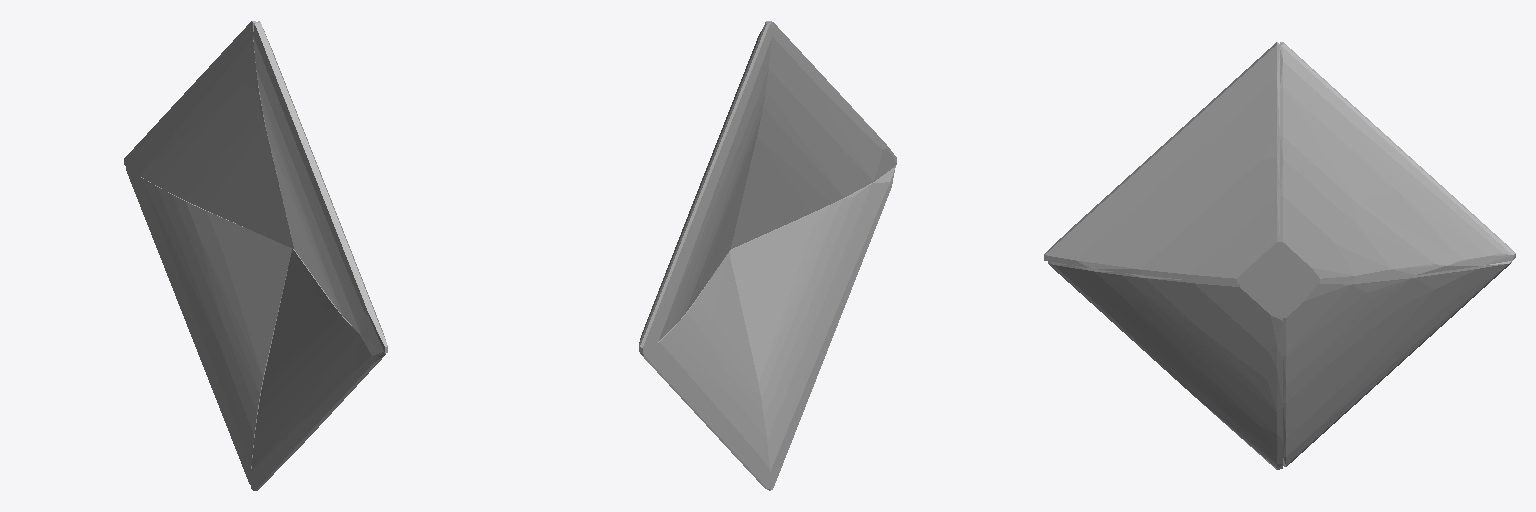
URDF robot description (root):
<robot name="root">
  <link name="link_sqbowl_convex_piece_0">
    <inertial>
      <origin rpy="0 0 0" xyz="0 0 0"/>
      <mass value="3.68E-07"/>
      <inertia ixx="5.33E-11" ixy="2.46E-12" ixz="2.63E-12" iyy="2.88E-11" iyz="1.34E-11" izz="2.60E-11"/>
    </inertial>
    <visual>
      <origin rpy="0 0 0" xyz="0 0 0"/>
      <geometry>
        <mesh filename="sqbowl_convex_piece_0.obj" scale="1.0000E+00"/>
      </geometry>
      <material name="">
        <color rgba="7.50E-01 7.50E-01 7.50E-01 1"/>
      </material>
    </visual>
    <collision>
      <origin rpy="0 0 0" xyz="0 0 0"/>
      <geometry>
        <mesh filename="sqbowl_convex_piece_0.obj" scale="1.0000E+00"/>
      </geometry>
    </collision>
  </link>
  <link name="link_sqbowl_convex_piece_1">
    <inertial>
      <origin rpy="0 0 0" xyz="0 0 0"/>
      <mass value="3.43E-07"/>
      <inertia ixx="4.95E-11" ixy="-2.52E-12" ixz="2.50E-12" iyy="2.56E-11" iyz="-1.32E-11" izz="2.54E-11"/>
    </inertial>
    <visual>
      <origin rpy="0 0 0" xyz="0 0 0"/>
      <geometry>
        <mesh filename="sqbowl_convex_piece_1.obj" scale="1.0000E+00"/>
      </geometry>
      <material name="">
        <color rgba="7.50E-01 7.50E-01 7.50E-01 1"/>
      </material>
    </visual>
    <collision>
      <origin rpy="0 0 0" xyz="0 0 0"/>
      <geometry>
        <mesh filename="sqbowl_convex_piece_1.obj" scale="1.0000E+00"/>
      </geometry>
    </collision>
  </link>
  <joint name="link_sqbowl_convex_piece_1_joint" type="fixed">
    <origin rpy="0 0 0" xyz="0 0 0"/>
    <parent link="link_sqbowl_convex_piece_0"/>
    <child link="link_sqbowl_convex_piece_1"/>
  </joint>
  <link name="link_sqbowl_convex_piece_2">
    <inertial>
      <origin rpy="0 0 0" xyz="0 0 0"/>
      <mass value="3.73E-07"/>
      <inertia ixx="5.35E-11" ixy="2.50E-12" ixz="-2.48E-12" iyy="2.69E-11" iyz="-1.31E-11" izz="2.81E-11"/>
    </inertial>
    <visual>
      <origin rpy="0 0 0" xyz="0 0 0"/>
      <geometry>
        <mesh filename="sqbowl_convex_piece_2.obj" scale="1.0000E+00"/>
      </geometry>
      <material name="">
        <color rgba="7.50E-01 7.50E-01 7.50E-01 1"/>
      </material>
    </visual>
    <collision>
      <origin rpy="0 0 0" xyz="0 0 0"/>
      <geometry>
        <mesh filename="sqbowl_convex_piece_2.obj" scale="1.0000E+00"/>
      </geometry>
    </collision>
  </link>
  <joint name="link_sqbowl_convex_piece_2_joint" type="fixed">
    <origin rpy="0 0 0" xyz="0 0 0"/>
    <parent link="link_sqbowl_convex_piece_1"/>
    <child link="link_sqbowl_convex_piece_2"/>
  </joint>
  <link name="link_sqbowl_convex_piece_3">
    <inertial>
      <origin rpy="0 0 0" xyz="0 0 0"/>
      <mass value="3.79E-07"/>
      <inertia ixx="5.43E-11" ixy="-2.69E-12" ixz="-2.56E-12" iyy="2.71E-11" iyz="1.33E-11" izz="2.88E-11"/>
    </inertial>
    <visual>
      <origin rpy="0 0 0" xyz="0 0 0"/>
      <geometry>
        <mesh filename="sqbowl_convex_piece_3.obj" scale="1.0000E+00"/>
      </geometry>
      <material name="">
        <color rgba="7.50E-01 7.50E-01 7.50E-01 1"/>
      </material>
    </visual>
    <collision>
      <origin rpy="0 0 0" xyz="0 0 0"/>
      <geometry>
        <mesh filename="sqbowl_convex_piece_3.obj" scale="1.0000E+00"/>
      </geometry>
    </collision>
  </link>
  <joint name="link_sqbowl_convex_piece_3_joint" type="fixed">
    <origin rpy="0 0 0" xyz="0 0 0"/>
    <parent link="link_sqbowl_convex_piece_2"/>
    <child link="link_sqbowl_convex_piece_3"/>
  </joint>
</robot>

--- Render facts (derived) ---
The picture shows the robot from 3 angles, left to right: view 1: azimuth 30°, elevation 25°; view 2: azimuth 150°, elevation 25°; view 3: azimuth 270°, elevation 25°; orthographic projection.
Model root with 4 links and 3 joints (3 fixed), rooted at link_sqbowl_convex_piece_0, posed every joint at zero.
Visible links, largest first — view 1: link_sqbowl_convex_piece_1, link_sqbowl_convex_piece_3, link_sqbowl_convex_piece_0, link_sqbowl_convex_piece_2; view 2: link_sqbowl_convex_piece_0, link_sqbowl_convex_piece_2, link_sqbowl_convex_piece_1, link_sqbowl_convex_piece_3; view 3: link_sqbowl_convex_piece_2, link_sqbowl_convex_piece_3, link_sqbowl_convex_piece_0, link_sqbowl_convex_piece_1.
Boxes of the visible links, x1,y1,x2,y2 form: link_sqbowl_convex_piece_1: [126, 167, 291, 484]; link_sqbowl_convex_piece_3: [124, 21, 293, 248]; link_sqbowl_convex_piece_0: [251, 249, 385, 490]; link_sqbowl_convex_piece_2: [253, 21, 387, 352]; link_sqbowl_convex_piece_0: [729, 166, 895, 490]; link_sqbowl_convex_piece_2: [731, 21, 896, 248]; link_sqbowl_convex_piece_1: [640, 253, 769, 489]; link_sqbowl_convex_piece_3: [639, 23, 771, 353]; link_sqbowl_convex_piece_2: [1044, 42, 1279, 283]; link_sqbowl_convex_piece_3: [1280, 42, 1515, 283]; link_sqbowl_convex_piece_0: [1048, 261, 1282, 469]; link_sqbowl_convex_piece_1: [1283, 261, 1511, 466].
Bounding box of the posed robot: 0.006 × 0.0453 × 0.0453 m (x, y, z).
4 mesh visuals loaded from 4 distinct referenced files (4 OBJ).